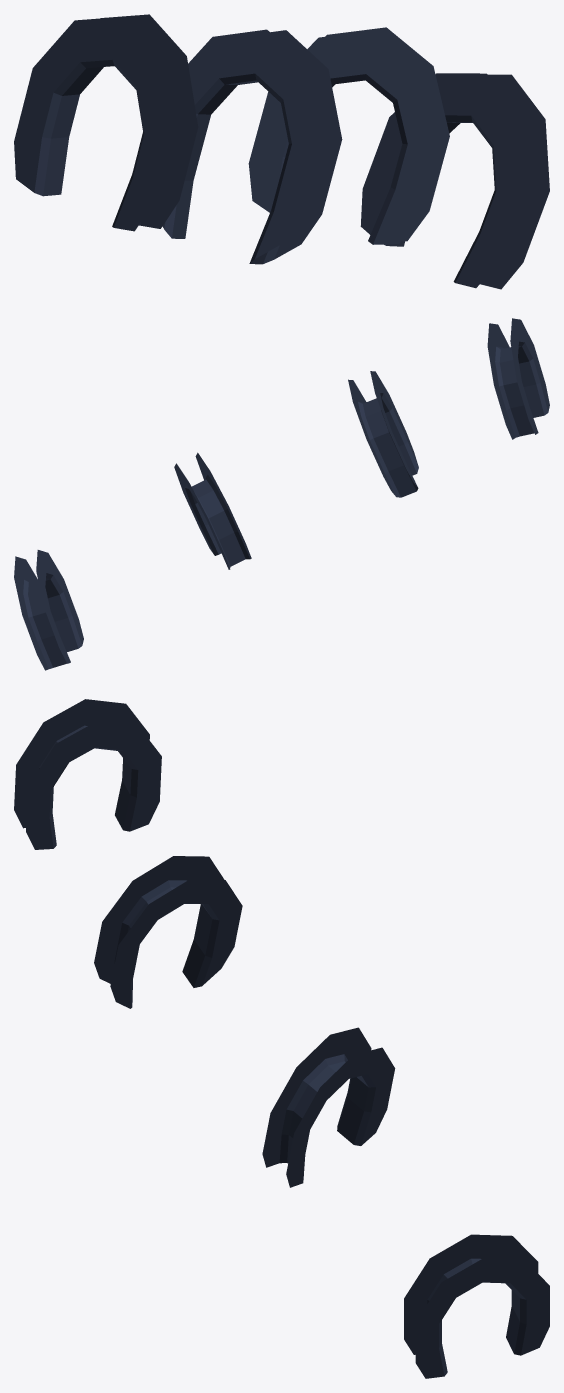
File: Tunnel supports.fbx
3 renders of one model, top to bottom at view 1: azimuth 30°, elevation 25°; view 2: azimuth 150°, elevation 25°; view 3: azimuth 270°, elevation 25°, orthographic. The views are drawn at different scales.
Visible parts, largest first — view 1: pCylinder32, pCylinder33, pCylinder35, pCylinder34; view 2: pCylinder35, pCylinder32, pCylinder33, pCylinder34; view 3: pCylinder32, pCylinder33, pCylinder35, pCylinder34.
Part boxes in pixels (x1,y1,x2,y2): pCylinder32: (14,14,198,231); pCylinder33: (162,29,342,264); pCylinder35: (360,73,549,289); pCylinder34: (248,27,449,244); pCylinder35: (14,550,83,670); pCylinder32: (487,318,549,439); pCylinder33: (348,371,418,497); pCylinder34: (174,452,251,569); pCylinder32: (14,699,161,849); pCylinder33: (94,856,242,1008); pCylinder35: (404,1234,549,1378); pCylinder34: (262,1027,395,1187).
Size of the model in its own units: 31.04 by 23.69 by 25.39.
